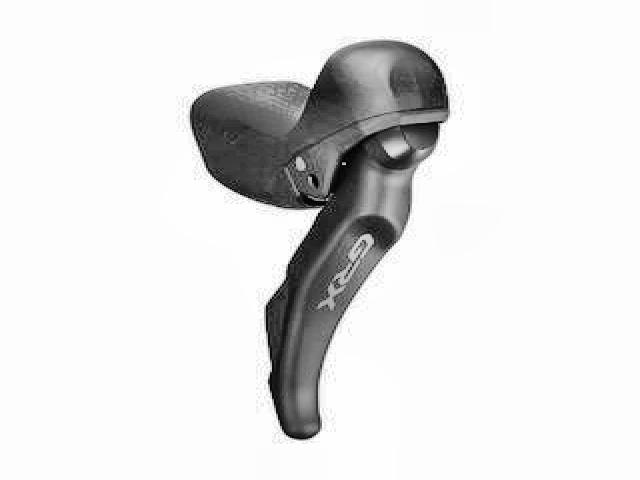sti_shifter: (186, 38, 452, 444)
